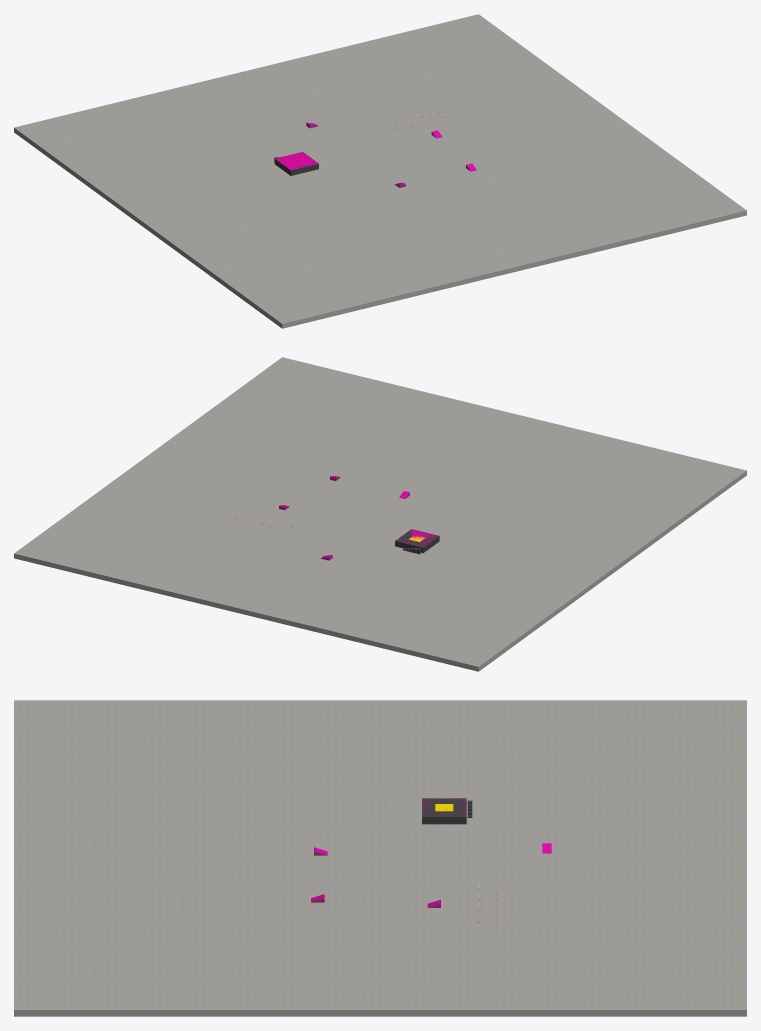
File: dynamicObject.glb
3 renders of one model, top to bottom at view 1: azimuth 30°, elevation 25°; view 2: azimuth 150°, elevation 25°; view 3: azimuth 270°, elevation 25°, orthographic. The views are drawn at different scales.
Visible parts, largest first — view 1: Cube; view 2: Cube, Cube.013; view 3: Cube, Cube.013.
Part boxes in pixels (box(x1,y1,x2,y2)): Cube: box(14, 14, 746, 328); Cube: box(14, 357, 746, 671); Cube.013: box(395, 529, 439, 553); Cube: box(14, 700, 746, 1016); Cube.013: box(422, 798, 466, 824).
Size of the model in its own units: 400 by 8.44 by 400.
7 materials, 1 textured.
